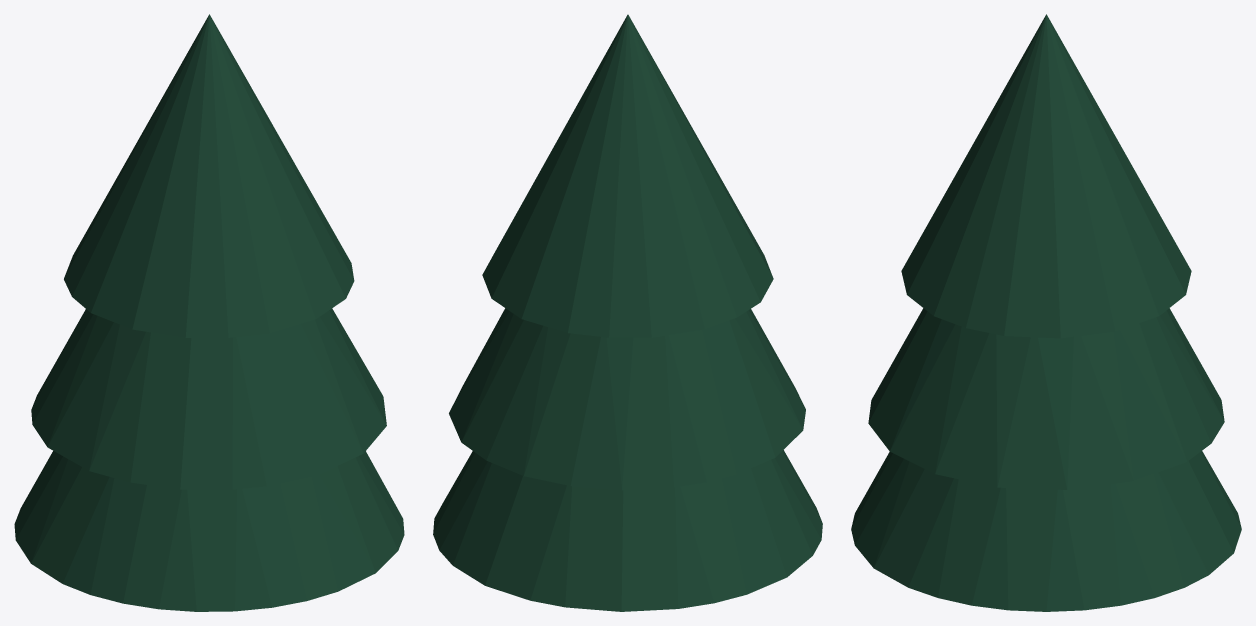
The model's file is tree15.fbx.
3 renders of one model, left to right at view 1: azimuth 30°, elevation 25°; view 2: azimuth 150°, elevation 25°; view 3: azimuth 270°, elevation 25°, orthographic.
Parts seen in each view (by area): view 1: treetype15; view 2: treetype15; view 3: treetype15.
Boxes of the visible parts, left/top/right/bottom form: treetype15: left=14, top=14, right=404, bottom=611; treetype15: left=433, top=14, right=822, bottom=611; treetype15: left=851, top=14, right=1241, bottom=611.
Size of the model in its own units: 120 by 182 by 120.
